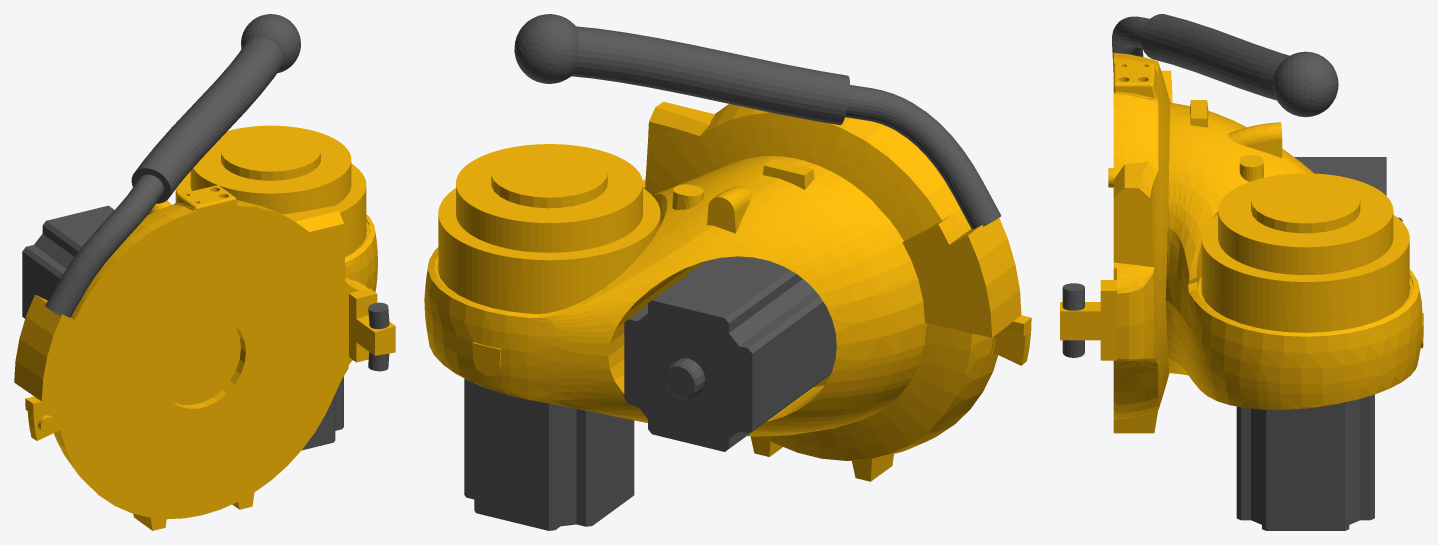
3 renders of one model, left to right at view 1: azimuth 30°, elevation 25°; view 2: azimuth 150°, elevation 25°; view 3: azimuth 270°, elevation 25°, orthographic. The views are drawn at different scales.
Parts seen in each view (by area): view 1: /node6/Cut013002001_001-mesh/0, /node2/Part__Feature025001001_001-mesh/0, /node5/Part__Feature024001001_001-mesh/0, /node4/Part__Feature016001001_001-mesh/0, /node1/Part__Feature028001001_001-mesh/0, /node3/Part__Feature015001001_001-mesh/0, /node0/Cut013003004003_001-mesh/0; view 2: /node6/Cut013002001_001-mesh/0, /node4/Part__Feature016001001_001-mesh/0, /node3/Part__Feature015001001_001-mesh/0, /node2/Part__Feature025001001_001-mesh/0, /node5/Part__Feature024001001_001-mesh/0, /node1/Part__Feature028001001_001-mesh/0; view 3: /node6/Cut013002001_001-mesh/0, /node3/Part__Feature015001001_001-mesh/0, /node2/Part__Feature025001001_001-mesh/0, /node1/Part__Feature028001001_001-mesh/0, /node4/Part__Feature016001001_001-mesh/0, /node5/Part__Feature024001001_001-mesh/0, /node0/Cut013003004003_001-mesh/0.
Boxes of the visible parts, x1=… form: /node6/Cut013002001_001-mesh/0: x1=14, y1=125, x2=395, y2=530; /node2/Part__Feature025001001_001-mesh/0: x1=131, y1=37, x2=283, y2=203; /node5/Part__Feature024001001_001-mesh/0: x1=45, y1=174, x2=164, y2=317; /node4/Part__Feature016001001_001-mesh/0: x1=22, y1=205, x2=114, y2=318; /node1/Part__Feature028001001_001-mesh/0: x1=241, y1=14, x2=300, y2=73; /node3/Part__Feature015001001_001-mesh/0: x1=302, y1=376, x2=343, y2=450; /node0/Cut013003004003_001-mesh/0: x1=368, y1=302, x2=389, y2=371; /node6/Cut013002001_001-mesh/0: x1=424, y1=101, x2=1031, y2=481; /node4/Part__Feature016001001_001-mesh/0: x1=624, y1=256, x2=836, y2=451; /node3/Part__Feature015001001_001-mesh/0: x1=464, y1=378, x2=634, y2=530; /node2/Part__Feature025001001_001-mesh/0: x1=572, y1=26, x2=849, y2=125; /node5/Part__Feature024001001_001-mesh/0: x1=845, y1=85, x2=1001, y2=229; /node1/Part__Feature028001001_001-mesh/0: x1=514, y1=14, x2=578, y2=83; /node6/Cut013002001_001-mesh/0: x1=1060, y1=52, x2=1423, y2=433; /node3/Part__Feature015001001_001-mesh/0: x1=1236, y1=394, x2=1374, y2=530; /node2/Part__Feature025001001_001-mesh/0: x1=1141, y1=14, x2=1289, y2=100; /node1/Part__Feature028001001_001-mesh/0: x1=1273, y1=51, x2=1338, y2=117; /node4/Part__Feature016001001_001-mesh/0: x1=1294, y1=157, x2=1402, y2=221; /node5/Part__Feature024001001_001-mesh/0: x1=1112, y1=16, x2=1149, y2=71; /node0/Cut013003004003_001-mesh/0: x1=1062, y1=283, x2=1084, y2=357.
Size of the model in its own units: 0.4827 by 0.4655 by 0.3325.
